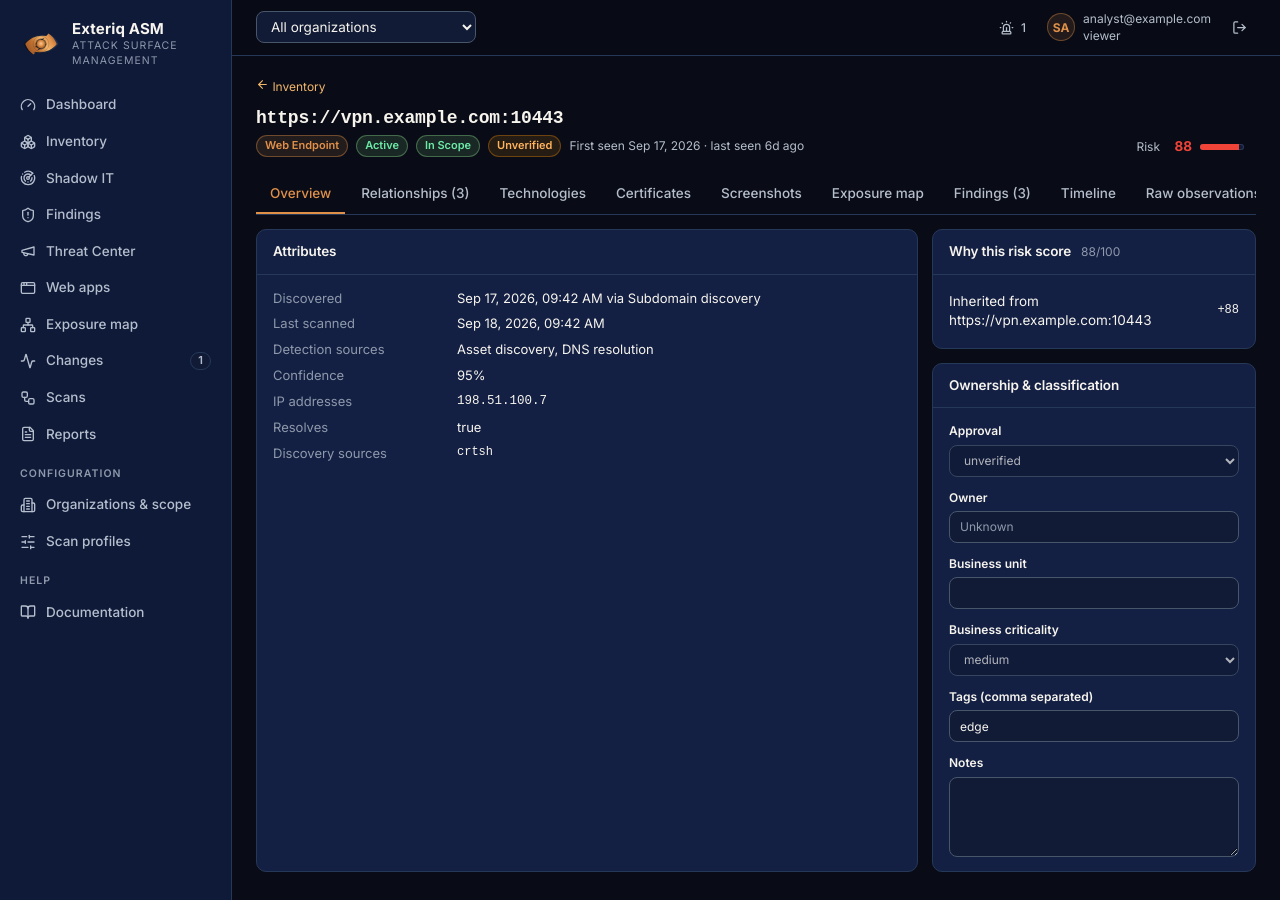
Website screenshots › a viewer can look but not capture or delete
Step 1. Click the tab "Screenshots" → x=761, y=194, box [707,174,816,214]
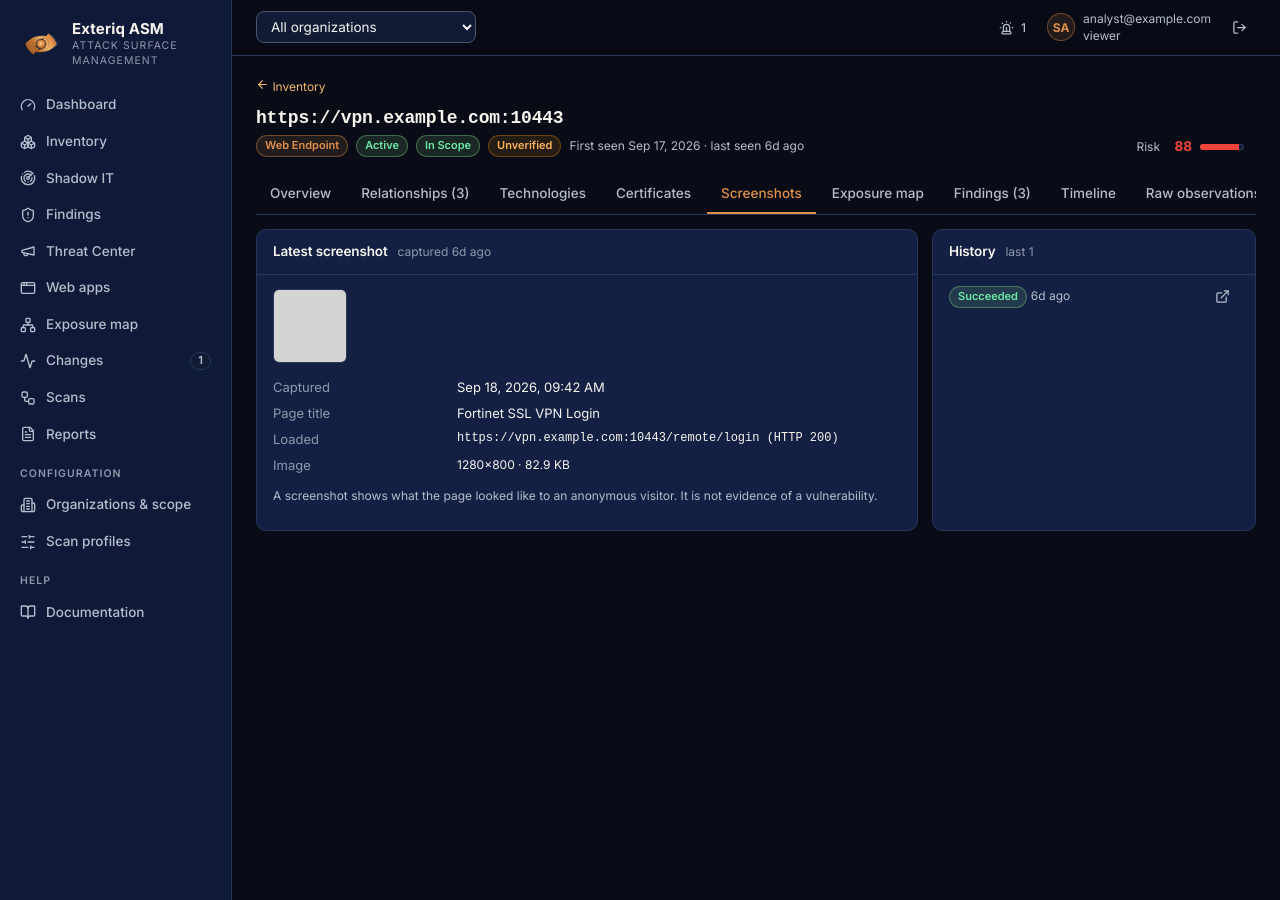
Check: the heading "Latest screenshot" is shown, box [273,242,388,262]
